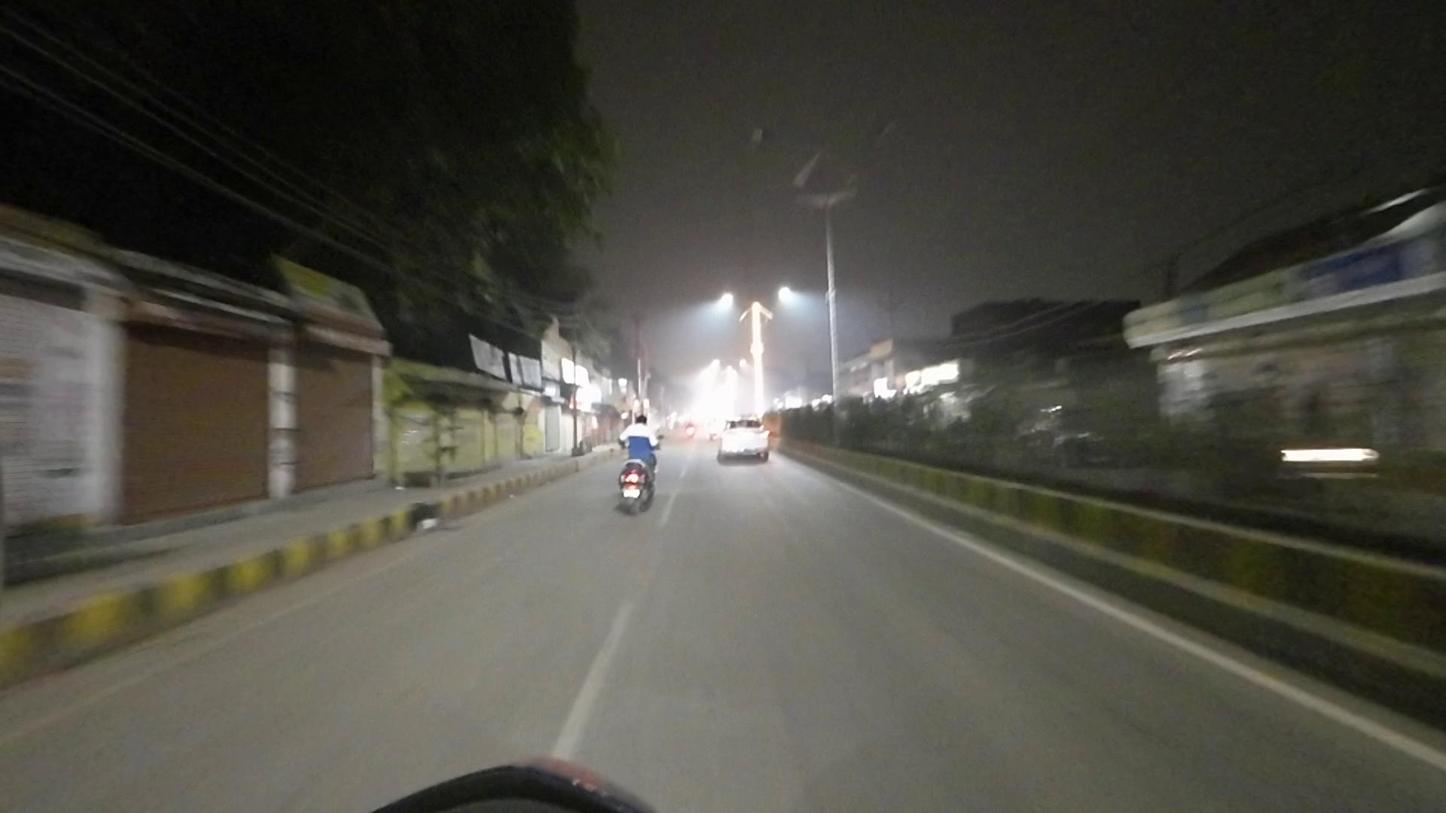streetlight: (755, 123, 810, 156), (832, 119, 897, 142)
